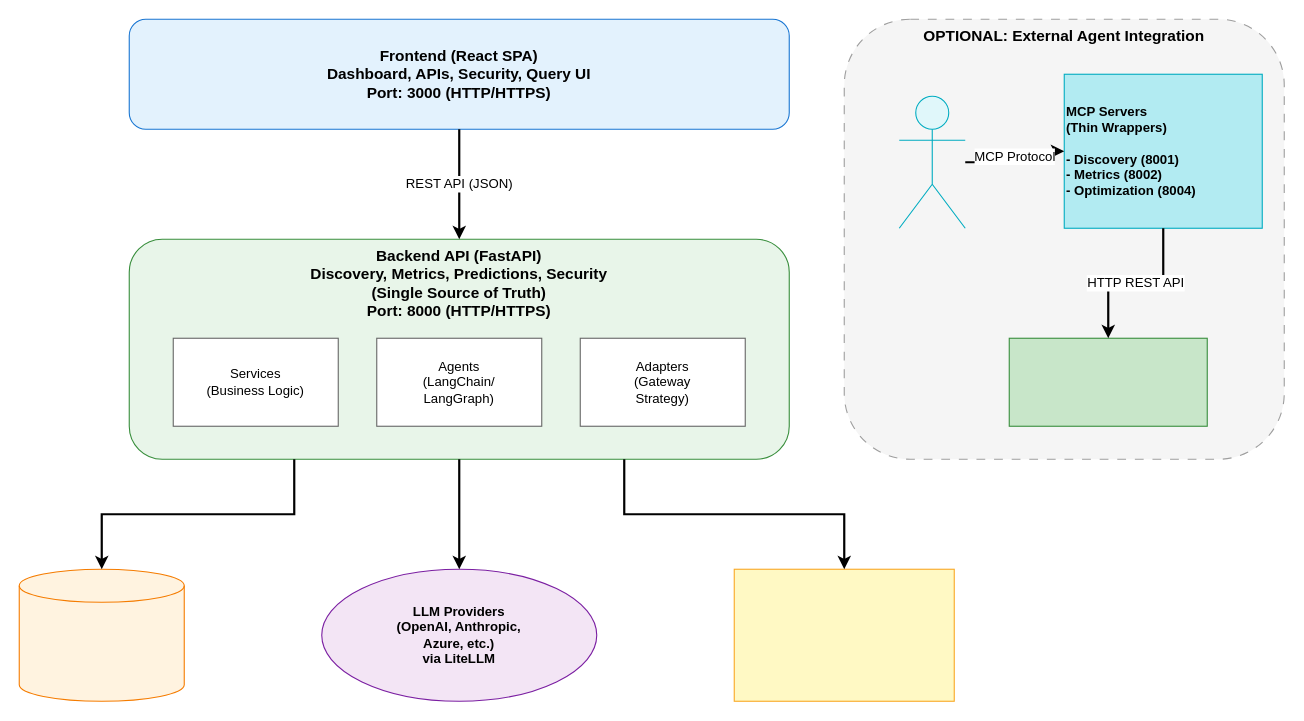
Some shapes in this 1304 by 721 pixel diagram are drawn without their labels. Here are the shapes that lost their labels. From the top down, the box of each, then its label:
(898, 95, 965, 228): AI Agents (Bob IDE, Claude Desktop)
(1008, 337, 1207, 426): Backend API (8000) (Same as above)
(18, 568, 184, 701): OpenSearch (Data Store) Port: 9200
(733, 568, 954, 701): Demo Gateway (Spring Boot) Native API Gateway Impl Port: 8080
